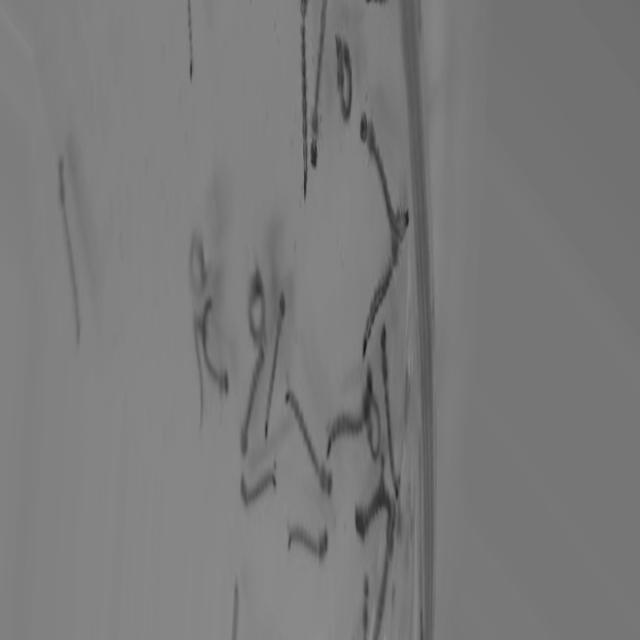larvas: (34, 142, 123, 398), (348, 191, 407, 363), (280, 382, 345, 524), (281, 0, 315, 232), (153, 0, 238, 92), (317, 349, 381, 457), (260, 290, 300, 455), (355, 92, 400, 235), (222, 342, 275, 460), (196, 283, 240, 425), (225, 442, 288, 538), (308, 0, 334, 218), (179, 200, 222, 319), (178, 304, 210, 441), (236, 248, 275, 350), (378, 315, 399, 492), (278, 520, 340, 575), (348, 462, 386, 547), (333, 28, 353, 163), (218, 561, 248, 640), (352, 559, 373, 640)
